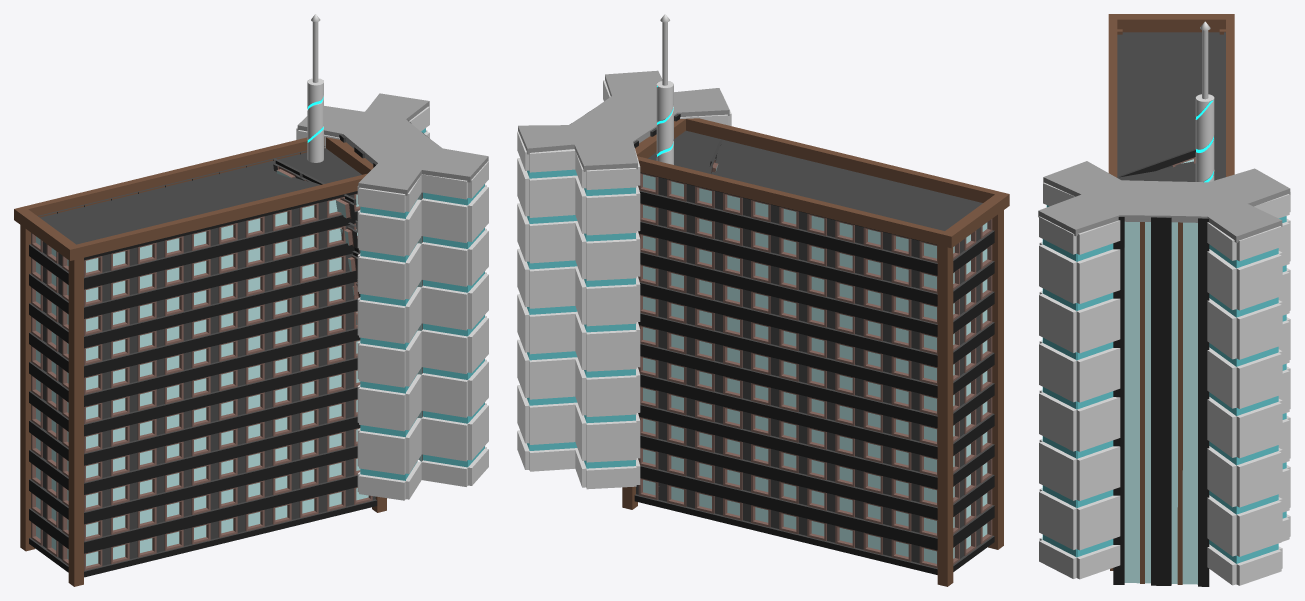
Rendered from Gedung 2.fbx.
The picture shows the model from 3 angles, left to right: view 1: azimuth 30°, elevation 25°; view 2: azimuth 150°, elevation 25°; view 3: azimuth 270°, elevation 25°; orthographic projection. The views are drawn at different scales.
Parts seen in each view (by area): view 1: Atap gedung 2Shape; view 2: Atap gedung 2Shape; view 3: Atap gedung 2Shape.
Boxes of the visible parts, x1,y1,x2,y2 form: Atap gedung 2Shape: (14,14,488,586); Atap gedung 2Shape: (517,14,1009,586); Atap gedung 2Shape: (1038,14,1290,586).
Bounding box in the file's own units: 294 × 319 × 137.
